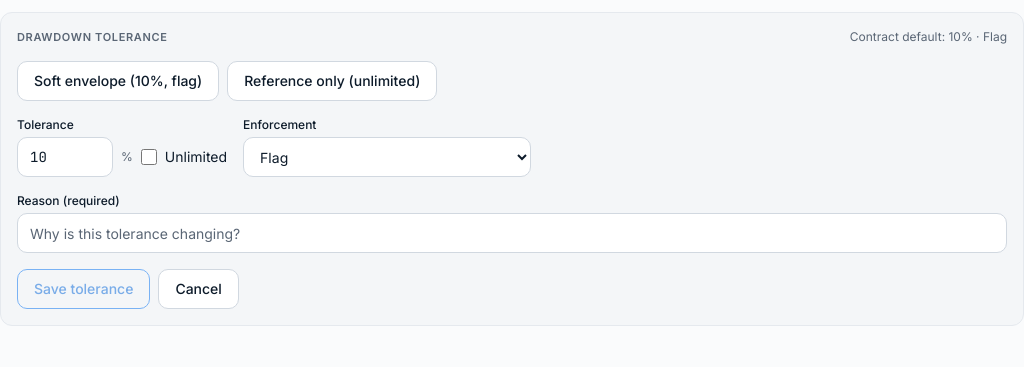
PolicyEditor — the tolerance input is text, so the default locale can express a decimal › an unreadable tolerance refuses, naming "2,5" as a legal form
The image size is (1024, 367).
Replace the text in the field labelled "Tolerance" with "ten percent" at [65, 157], box x1=17 y1=137 x2=113 y2=177
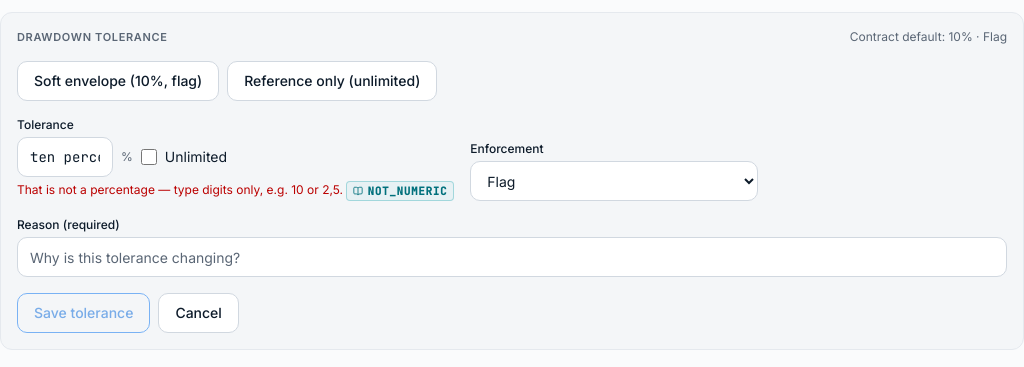
Now the message with test id "policy-pct-refusal" shows "2,5", box x1=17 y1=182 x2=343 y2=197
